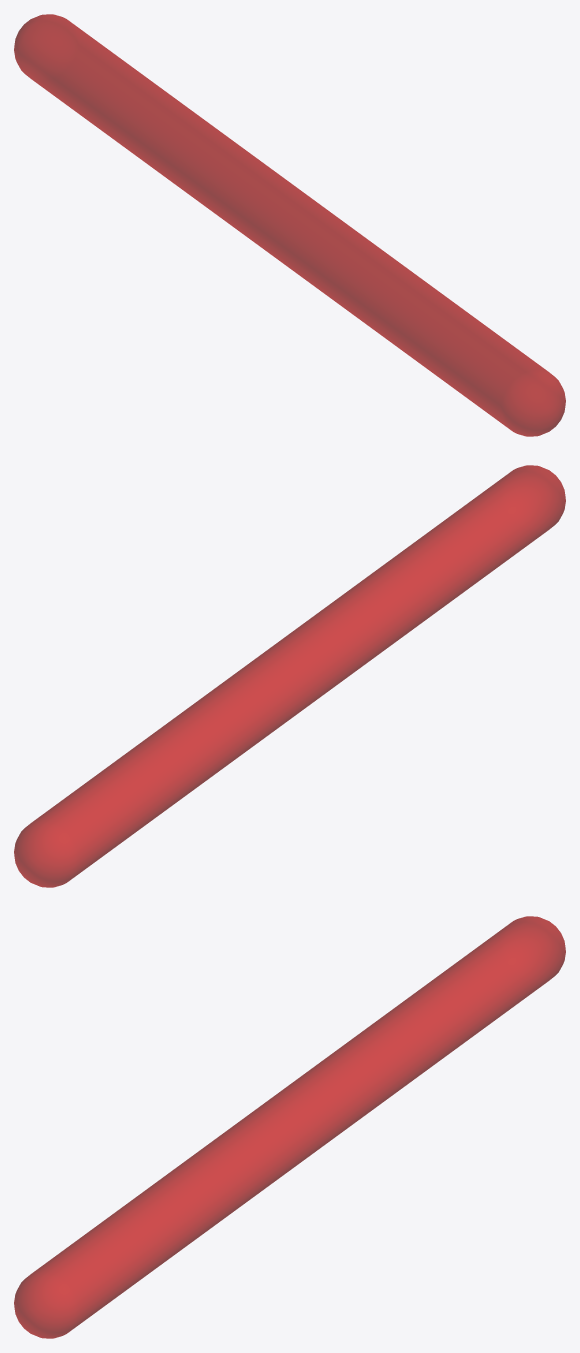
Rendered from projectile.fbx.
3 views of the same model, one above another, from view 1: azimuth 30°, elevation 25°; view 2: azimuth 150°, elevation 25°; view 3: azimuth 330°, elevation 25° (orthographic).
Parts seen in each view (by area): view 1: pCylinder1; view 2: pCylinder1; view 3: pCylinder1.
Part boxes in pixels (x1=…): pCylinder1: x1=14, y1=14, x2=565, y2=436; pCylinder1: x1=14, y1=465, x2=565, y2=887; pCylinder1: x1=14, y1=916, x2=565, y2=1338.
Bounding box in the file's own units: 1.25 × 1.25 × 18.43.
